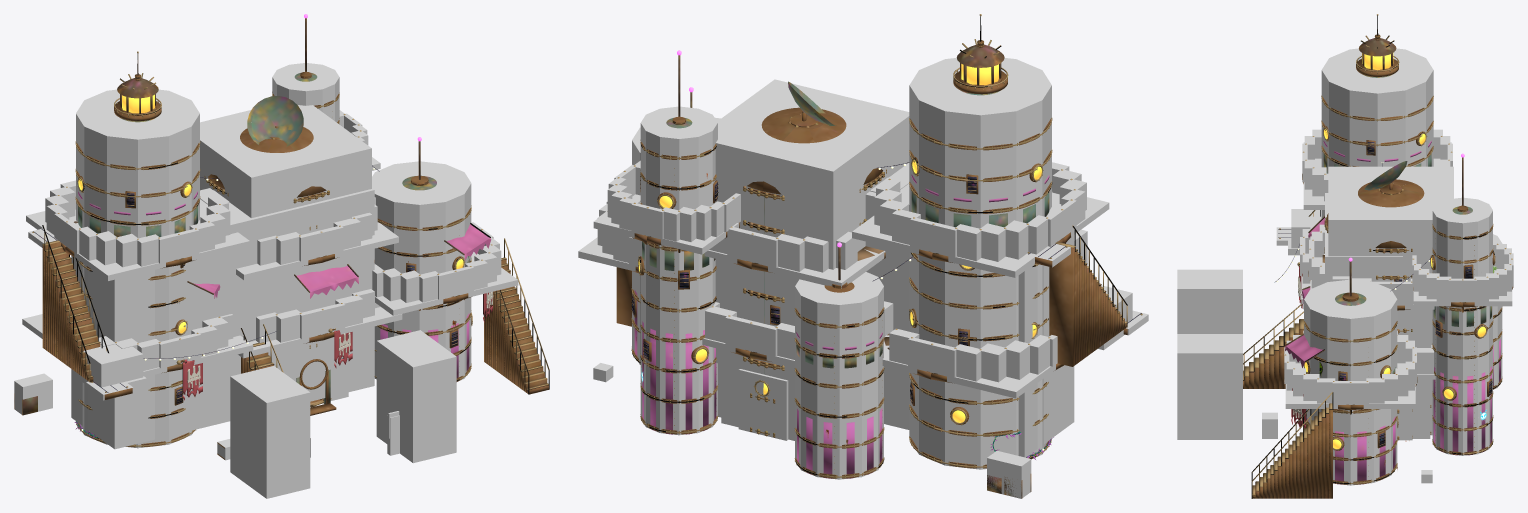
File: res_complex.glb
The picture shows the model from 3 angles, left to right: view 1: azimuth 30°, elevation 25°; view 2: azimuth 150°, elevation 25°; view 3: azimuth 270°, elevation 25°; orthographic projection. The views are drawn at different scales.
Parts seen in each view (by area): view 1: col_bld_res_complex_pipes, col_bld_res_complex_T_A, res_complex_body_b, res_complex_body_a, col_bld_res_complex_T_B_18, col_bld_res_complex_T_C, col_bld_POST_streetlamp_warm_i.002, col_bld_POST_streetlamp_pink_i, col_bld_res_complex_T_E, col_deck_res_complex_balA2, col_bld_res_complex_walkA0, res_complex_plain (+17 smaller); view 2: col_bld_res_complex_T_A, col_bld_res_complex_T_B_18, res_complex_body_a, col_bld_res_complex_T_E, col_bld_res_complex_T_D, res_complex_body_b, col_bld_res_complex_pipes, col_deck_res_complex_balA2, res_complex_plain, col_deck_res_complex_balB2, col_deck_res_complex_balA1, col_bld_CRATE_stack_i.004 (+28 smaller); view 3: res_complex_body_b, col_bld_res_complex_T_A, col_bld_res_complex_T_C, col_bld_res_complex_T_E, col_bld_res_complex_T_B_18, col_bld_POST_streetlamp_pink_i, res_complex_body_a, col_bld_POST_streetlamp_warm_i.002, col_bld_res_complex_pipes, res_complex_plain, col_deck_res_complex_balC1, col_bld_res_complex_T_B_1 (+16 smaller).
Boxes of the visible parts, <box> form: col_bld_res_complex_pipes: <box>71,188,374,449</box>; col_bld_res_complex_T_A: <box>76,89,199,448</box>; res_complex_body_b: <box>208,18,549,415</box>; res_complex_body_a: <box>14,51,310,459</box>; col_bld_res_complex_T_B_18: <box>200,105,371,218</box>; col_bld_res_complex_T_C: <box>372,161,471,380</box>; col_bld_POST_streetlamp_warm_i.002: <box>230,366,310,498</box>; col_bld_POST_streetlamp_pink_i: <box>376,330,456,463</box>; col_bld_res_complex_T_E: <box>272,63,339,124</box>; col_deck_res_complex_balA2: <box>26,209,249,280</box>; col_bld_res_complex_walkA0: <box>83,344,143,387</box>; res_complex_plain: <box>33,14,493,441</box>; col_bld_res_complex_T_A: <box>909,58,1051,469</box>; col_bld_res_complex_T_B_18: <box>715,79,909,381</box>; res_complex_body_a: <box>775,14,1142,498</box>; col_bld_res_complex_T_E: <box>640,106,717,435</box>; col_bld_res_complex_T_D: <box>795,272,883,479</box>; res_complex_body_b: <box>607,55,884,437</box>; col_bld_res_complex_pipes: <box>865,163,1074,457</box>; col_deck_res_complex_balA2: <box>852,197,1109,277</box>; res_complex_plain: <box>632,50,1141,457</box>; col_deck_res_complex_balB2: <box>704,249,885,288</box>; col_deck_res_complex_balA1: <box>882,335,1055,398</box>; col_bld_CRATE_stack_i.004: <box>987,450,1031,498</box>; res_complex_body_b: <box>1251,157,1513,498</box>; col_bld_res_complex_T_A: <box>1321,48,1433,218</box>; col_bld_res_complex_T_C: <box>1304,279,1397,485</box>; col_bld_res_complex_T_E: <box>1432,197,1492,455</box>; col_bld_res_complex_T_B_18: <box>1328,166,1453,392</box>; col_bld_POST_streetlamp_pink_i: <box>1177,334,1242,439</box>; res_complex_body_a: <box>1243,14,1502,389</box>; col_bld_POST_streetlamp_warm_i.002: <box>1177,269,1242,333</box>; col_bld_res_complex_pipes: <box>1325,193,1402,334</box>; res_complex_plain: <box>1274,53,1492,448</box>; col_deck_res_complex_balC1: <box>1285,363,1415,408</box>; col_bld_res_complex_T_B_1: <box>1412,392,1430,438</box>.
Size of the model in its own units: 20.1 by 16.67 by 15.
Materials: 26 (9 with a texture image).
